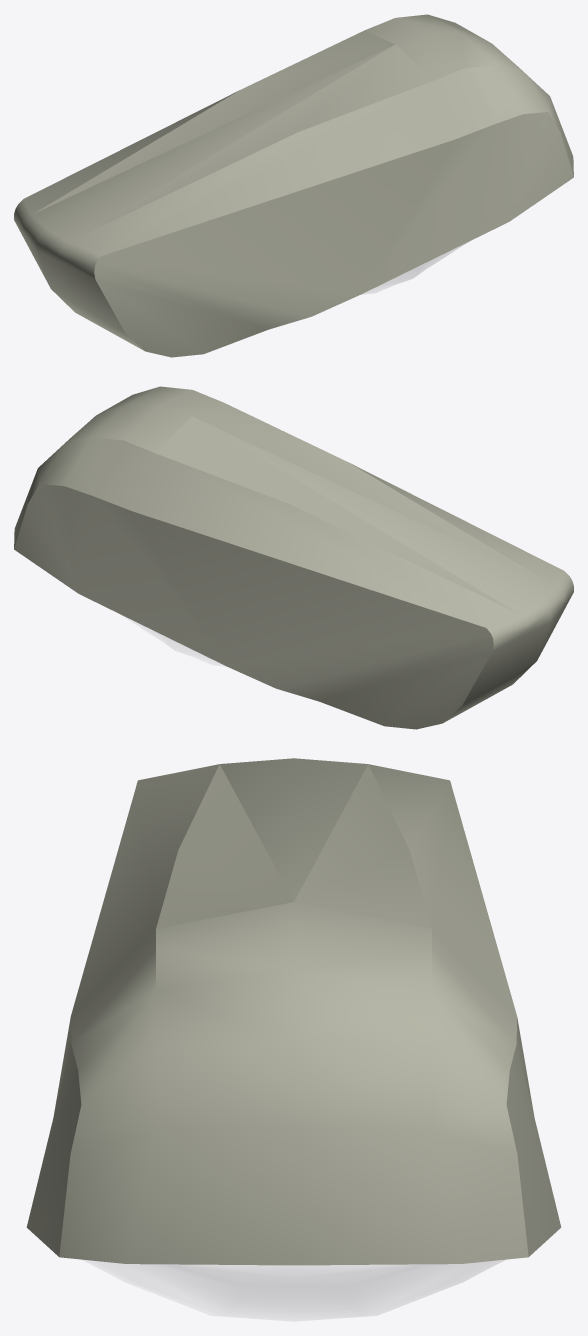
3 views of the same model, one above another, from view 1: azimuth 30°, elevation 25°; view 2: azimuth 150°, elevation 25°; view 3: azimuth 270°, elevation 25° (orthographic). The views are drawn at different scales.
Parts seen in each view (by area): view 1: BezierCurve.006, BezierCurve.004; view 2: BezierCurve.006, BezierCurve.004; view 3: BezierCurve.006, BezierCurve.004.
Part boxes in pixels (x1=…): BezierCurve.006: x1=14, y1=14, x2=573, y2=357; BezierCurve.004: x1=362, y1=242, x2=467, y2=294; BezierCurve.006: x1=14, y1=386, x2=573, y2=729; BezierCurve.004: x1=120, y1=614, x2=225, y2=666; BezierCurve.006: x1=26, y1=758, x2=561, y2=1265; BezierCurve.004: x1=83, y1=1260, x2=504, y2=1321.
Size of the model in its own units: 0.6225 by 0.2668 by 0.2898.
Materials: 3 (2 with a texture image).
